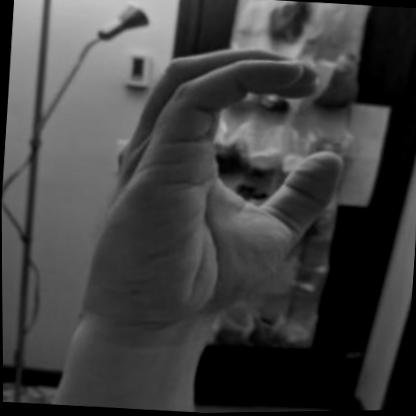C: (68, 26, 367, 363)
